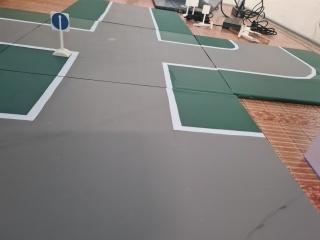straight: (49, 6, 74, 36)
